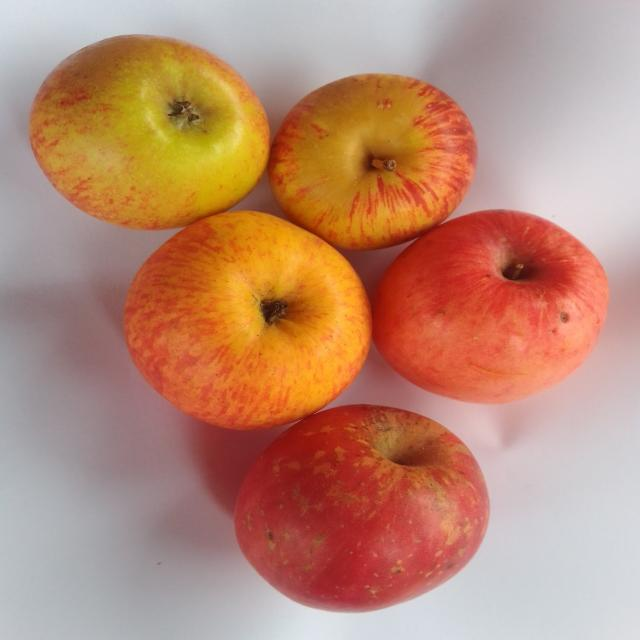Fresh Apple: (236, 400, 492, 613), (120, 212, 368, 430), (27, 33, 268, 230), (380, 216, 605, 402), (277, 74, 478, 244)
